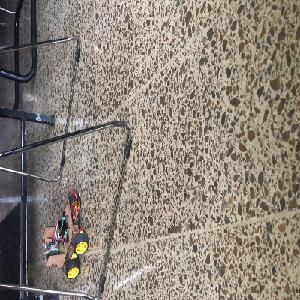Robot: (44, 195, 87, 278)
